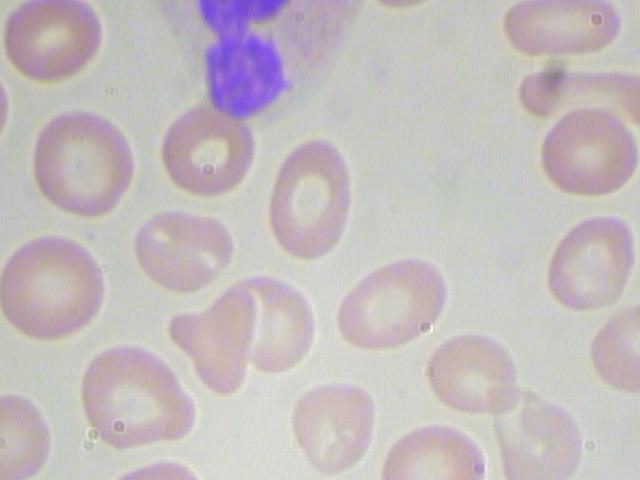RBC: (322, 250, 460, 357), (78, 341, 203, 450), (26, 106, 142, 220), (1, 234, 119, 342), (537, 202, 640, 315), (537, 96, 640, 208), (423, 311, 526, 423), (218, 265, 321, 377), (268, 137, 356, 266), (277, 377, 381, 477), (154, 104, 264, 197), (4, 1, 114, 93), (132, 204, 237, 297), (500, 1, 624, 60)
